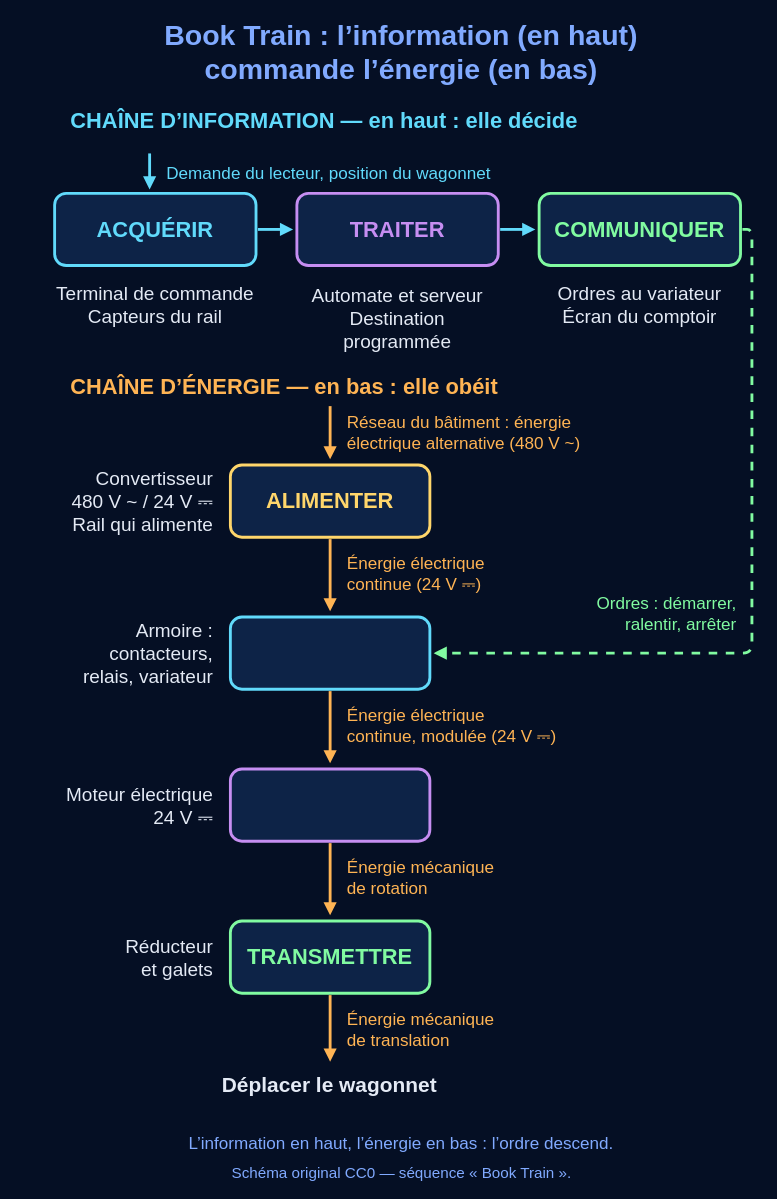
The diagram is 777 pixels wide and 1199 high, and some of its shapes have lost their labels. Each missing label, with the box of its shape:
CONVERTIR: (228, 767, 431, 842)
DISTRIBUER: (228, 615, 431, 690)
